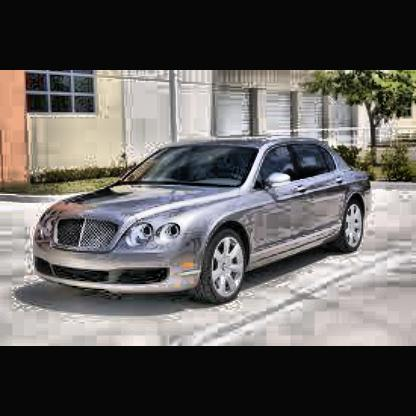Bentley Continental Flying Spur Sedan 2007: (31, 137, 377, 313)
